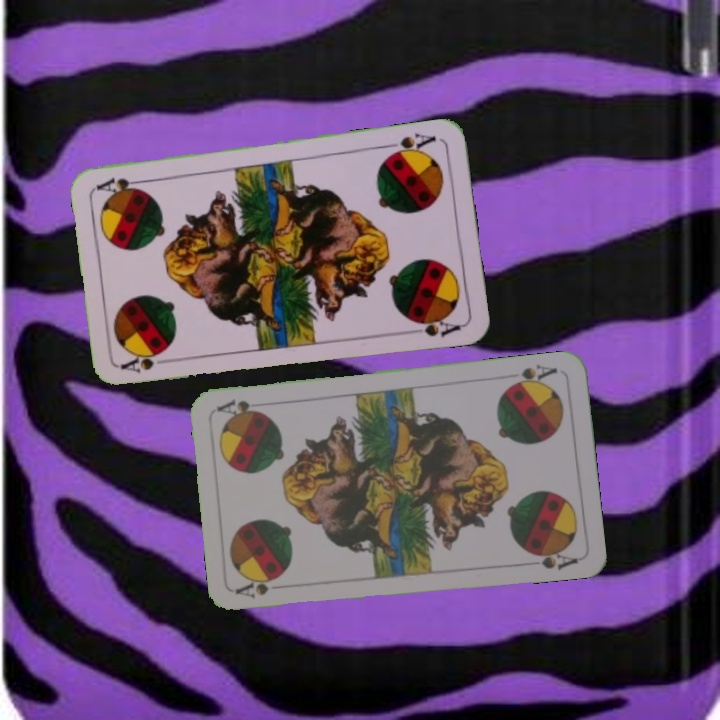SA: (381, 128, 439, 160), (503, 360, 560, 391), (233, 574, 292, 601), (117, 350, 177, 376)
